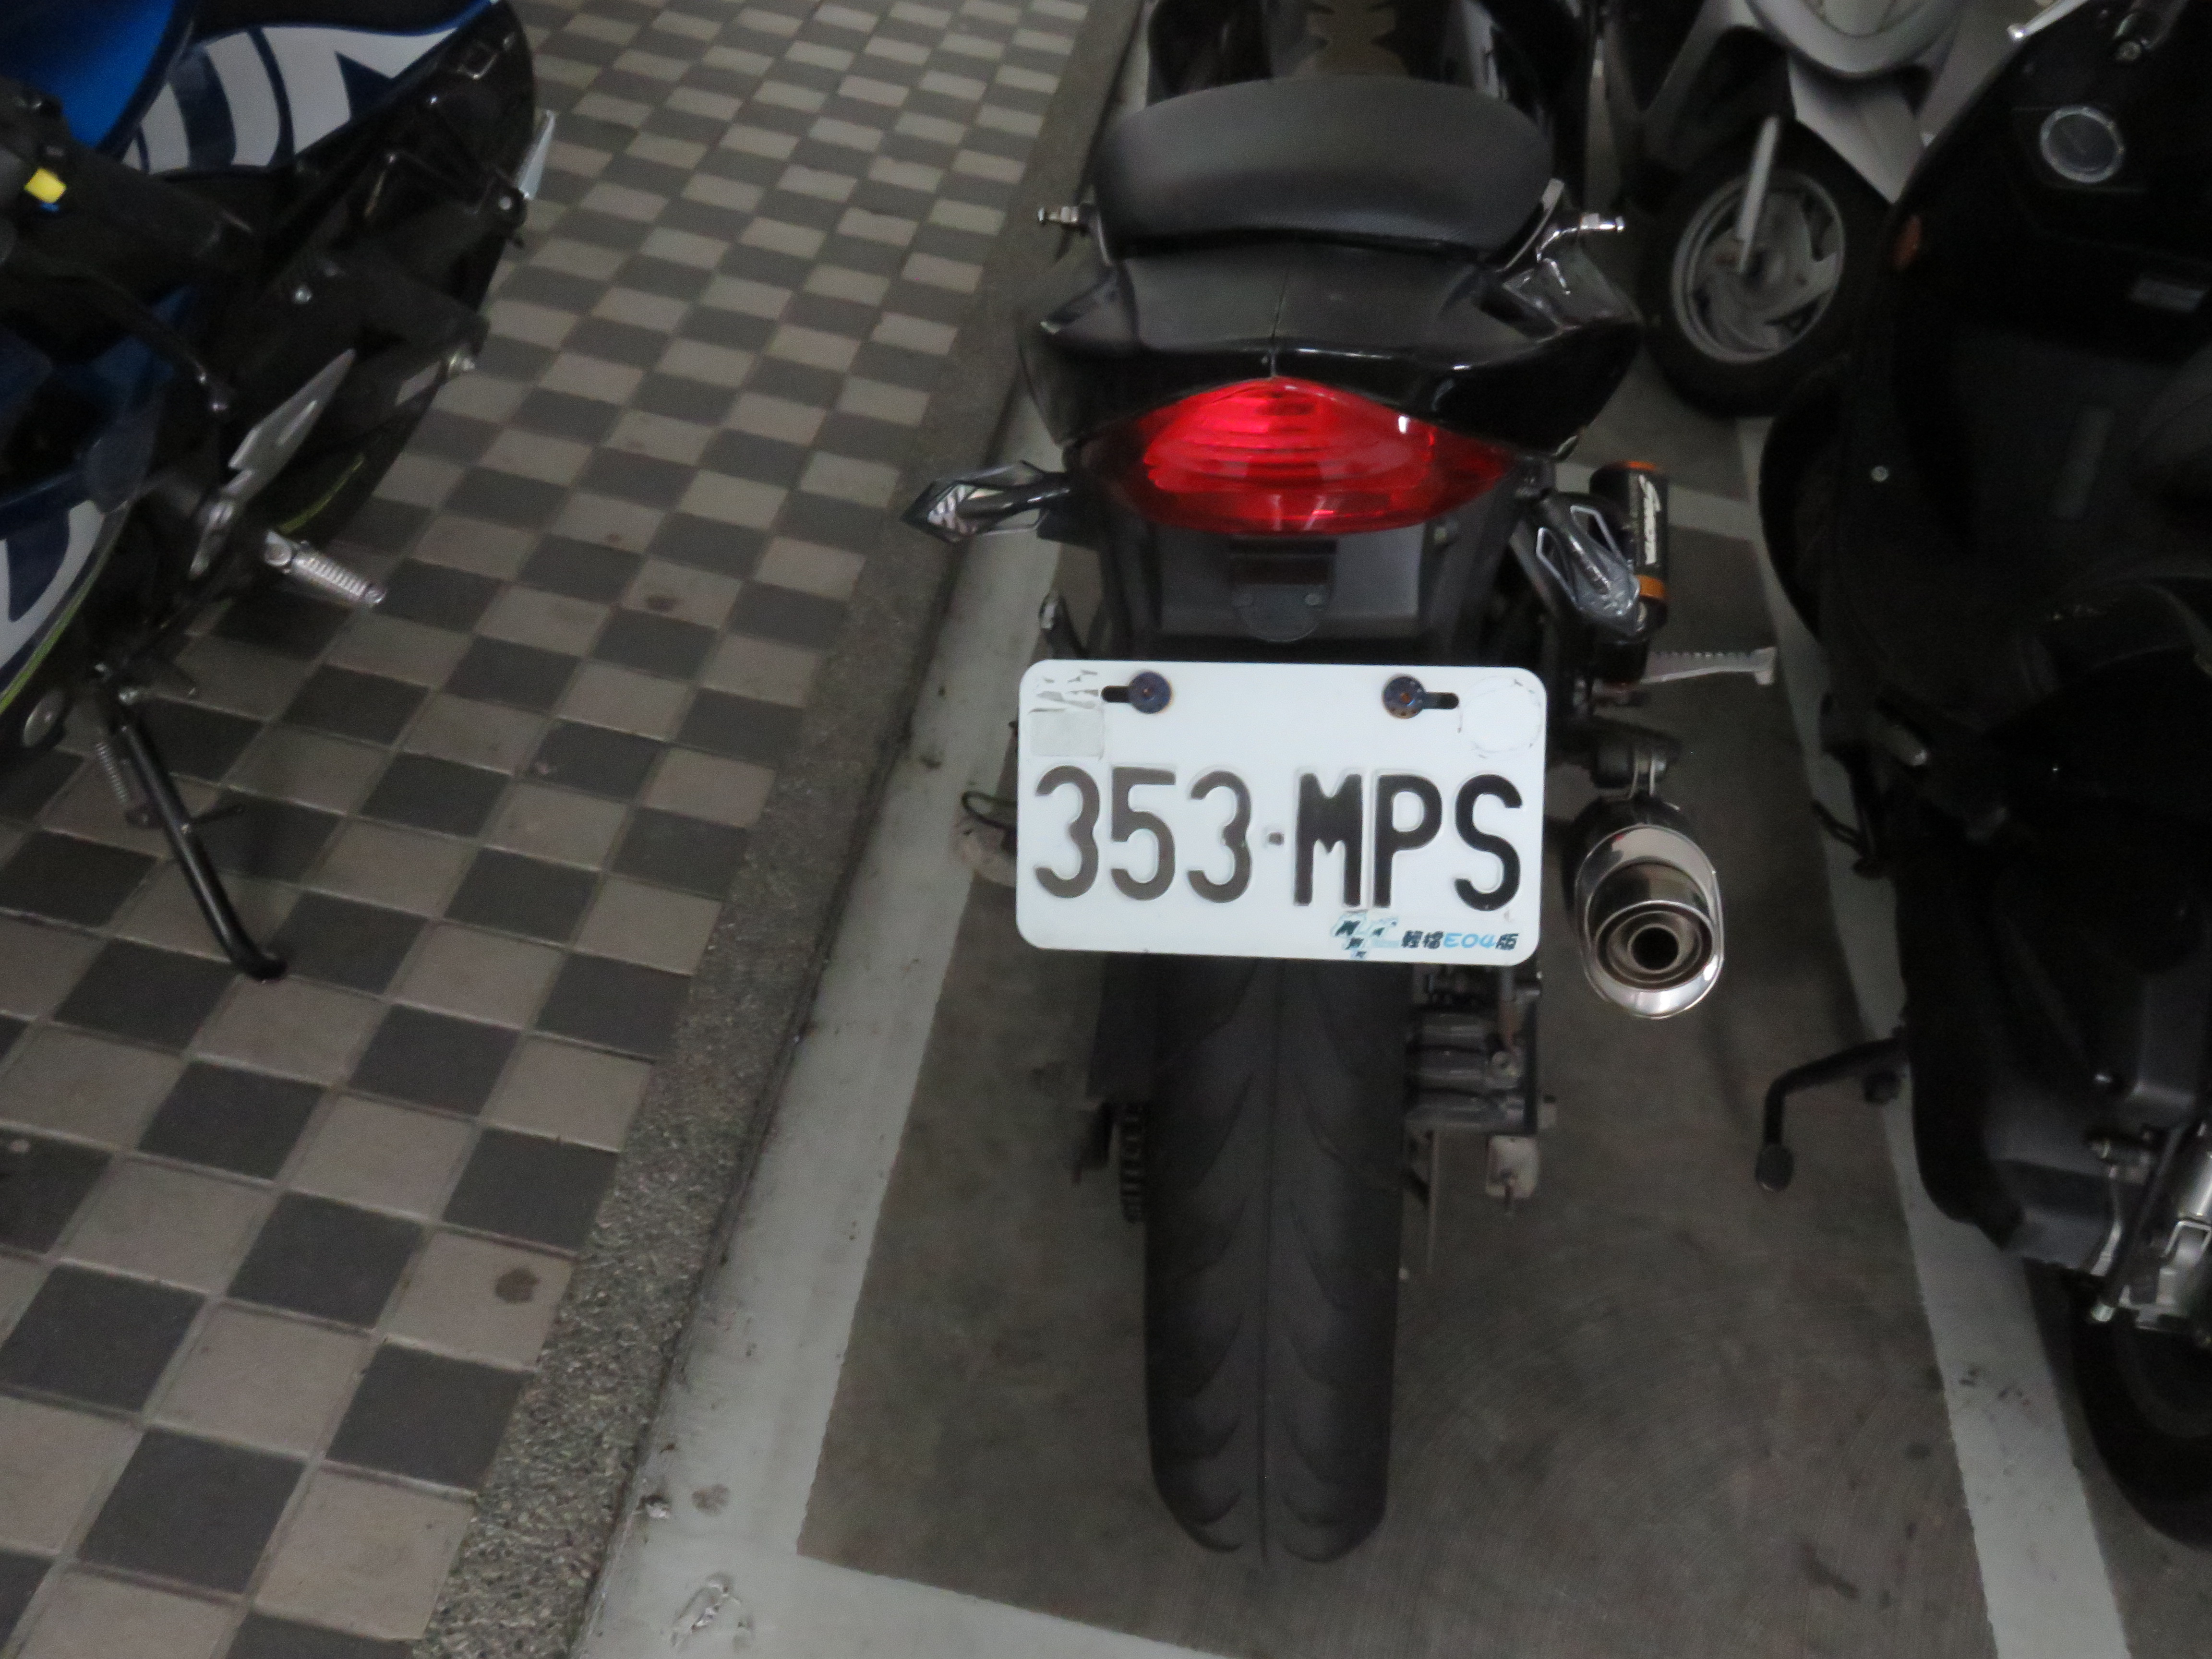car_card: (1022, 669, 1540, 962)
moto: (911, 0, 1738, 1572), (0, 2, 552, 1042)
